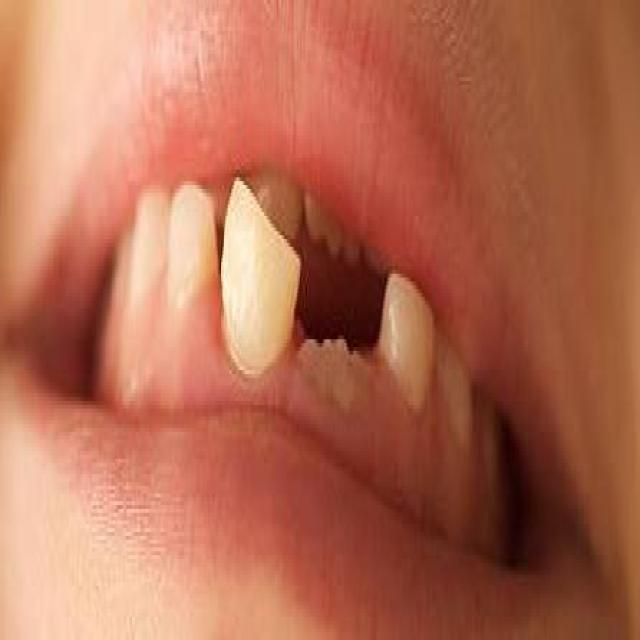caries: (302, 323, 378, 430)
